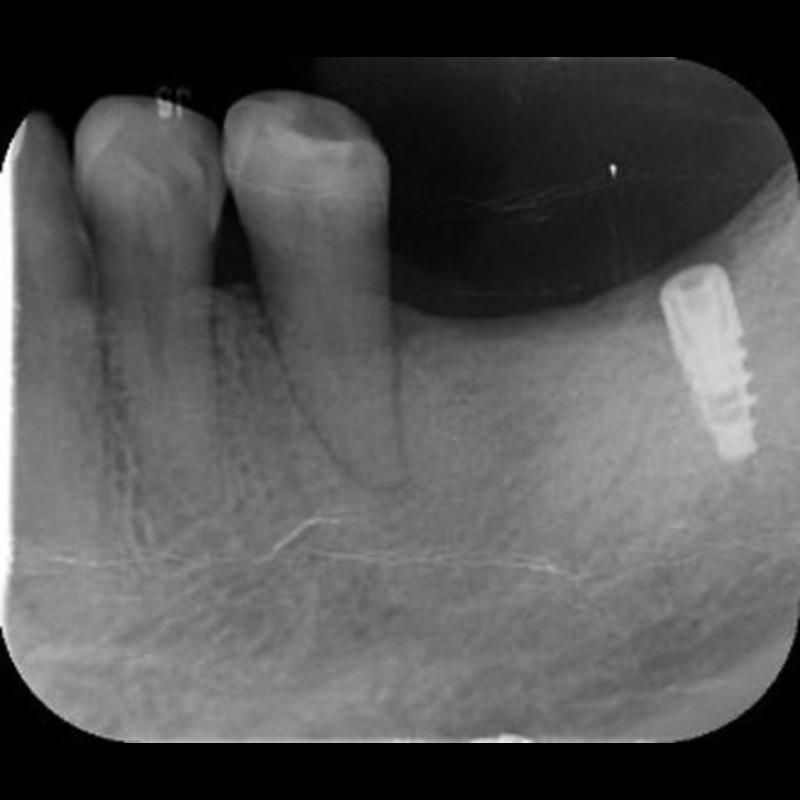ADIN: (652, 265, 780, 465)
